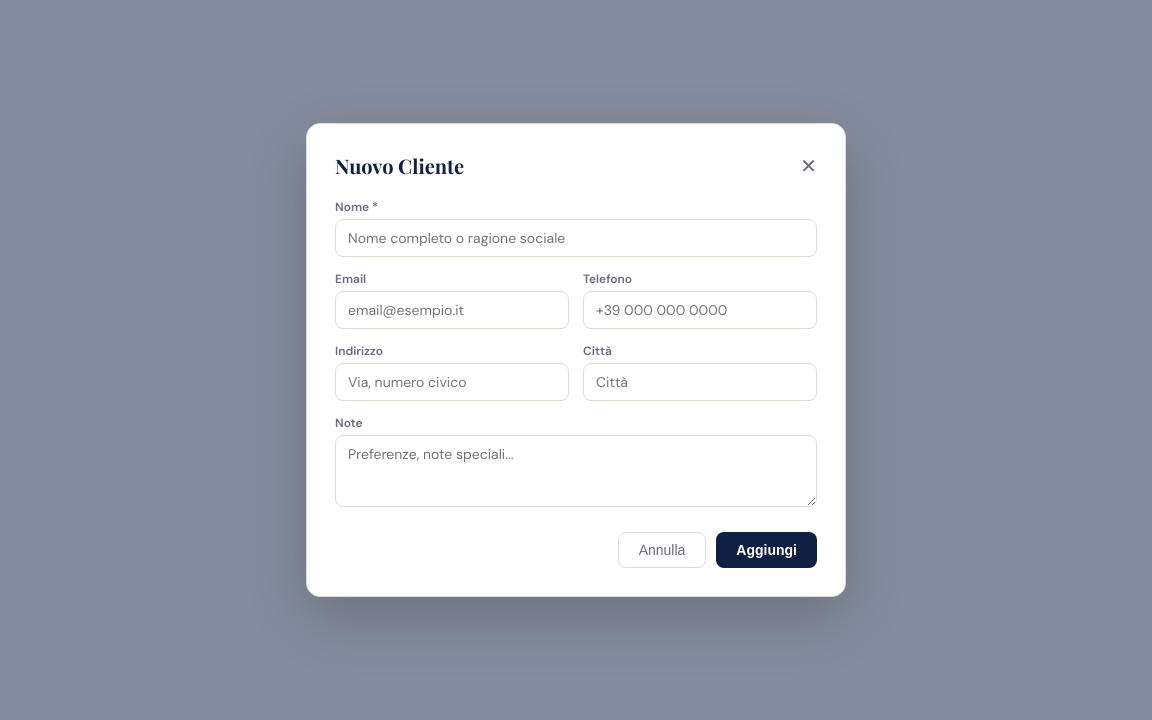
it: ClienteModal — il nome mancante lo dice, non lo tace › il messaggio è sotto il campo, legato all'input e col focus dentro
The image size is (1152, 720).
Click the button "Aggiungi" at (767, 550), box 716,532 -> 817,568
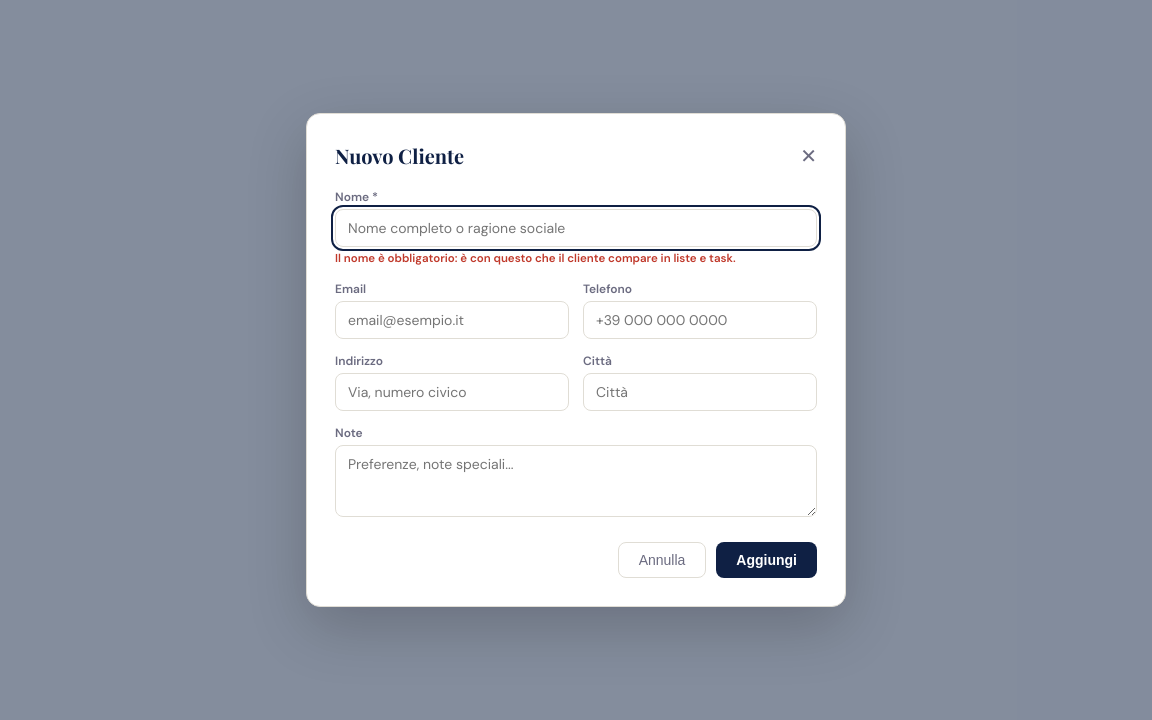
Now the message shows "nome è obbligatorio", box 335,251 -> 736,266
